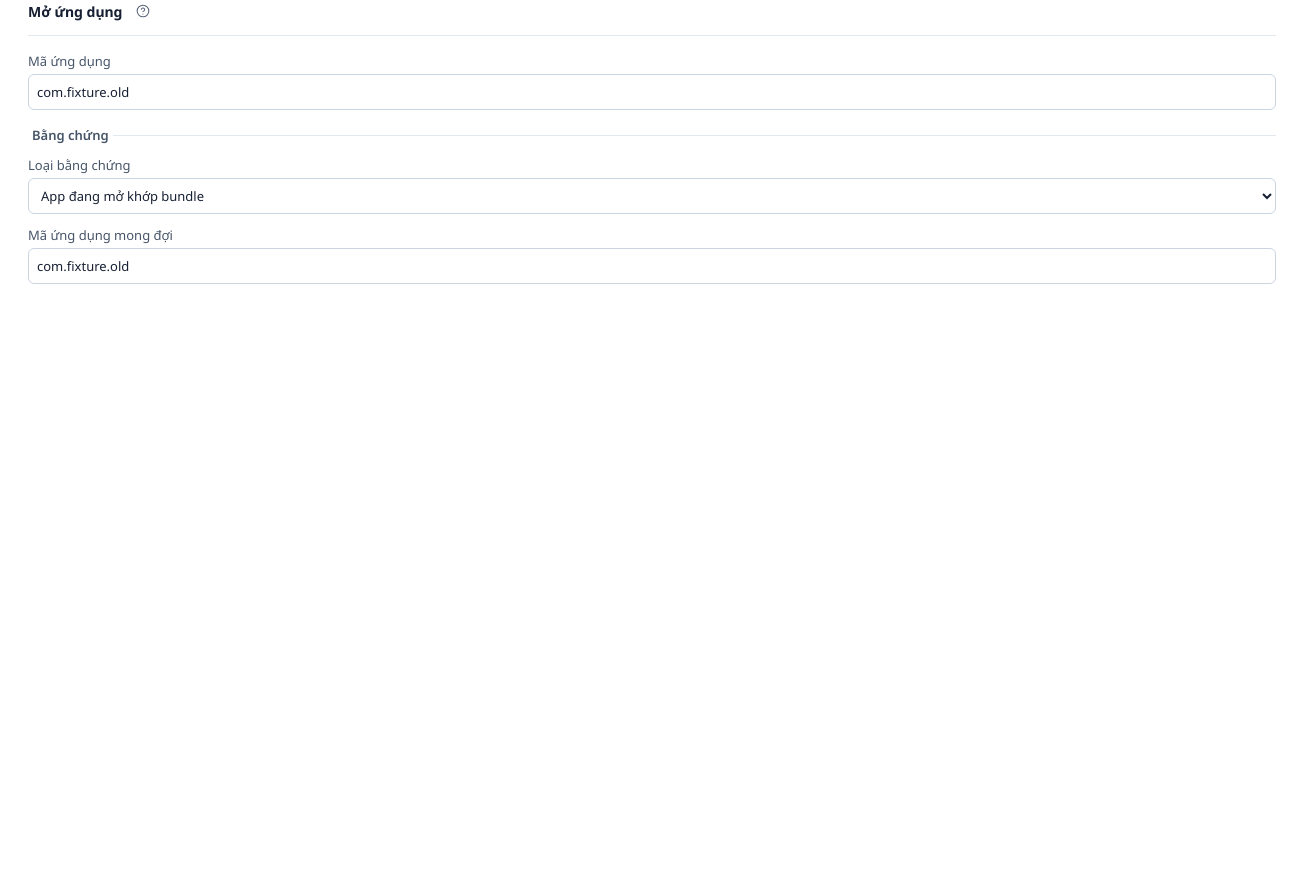
Test: FlowInspector › edits Launch App bundle IDs and exposes only backend-allowed evidence
Replace the text in the field labelled "Mã ứng dụng" with "com.fixture.new" at (652, 92), box [28, 74, 1276, 110]
(page scrolled)
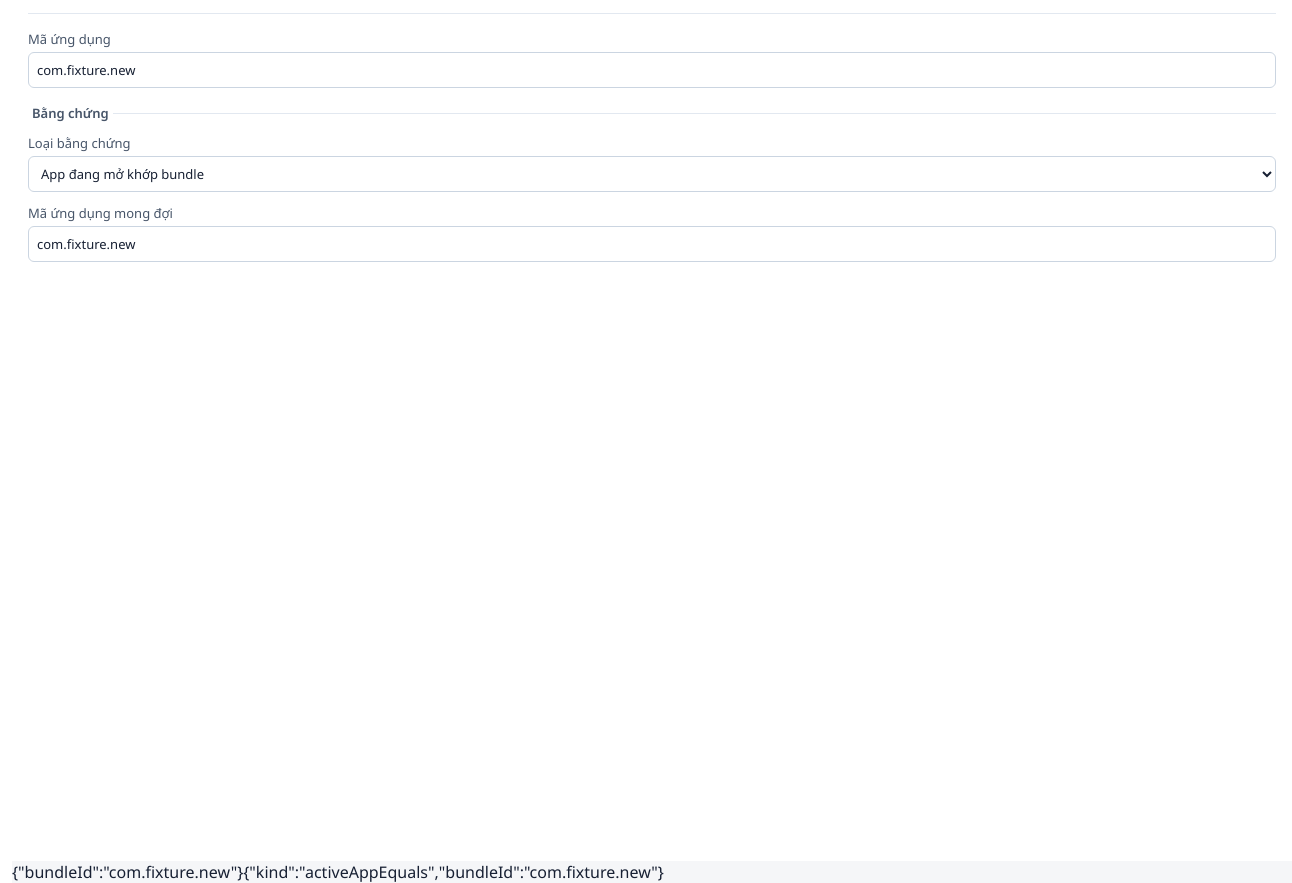
Now the text with test id "config" shows "\"bundleId\":\"com.fixture.new\"", box [12, 861, 243, 882]
Now the text with test id "evidence" shows "\"bundleId\":\"com.fixture.new\"", box [243, 861, 664, 882]
